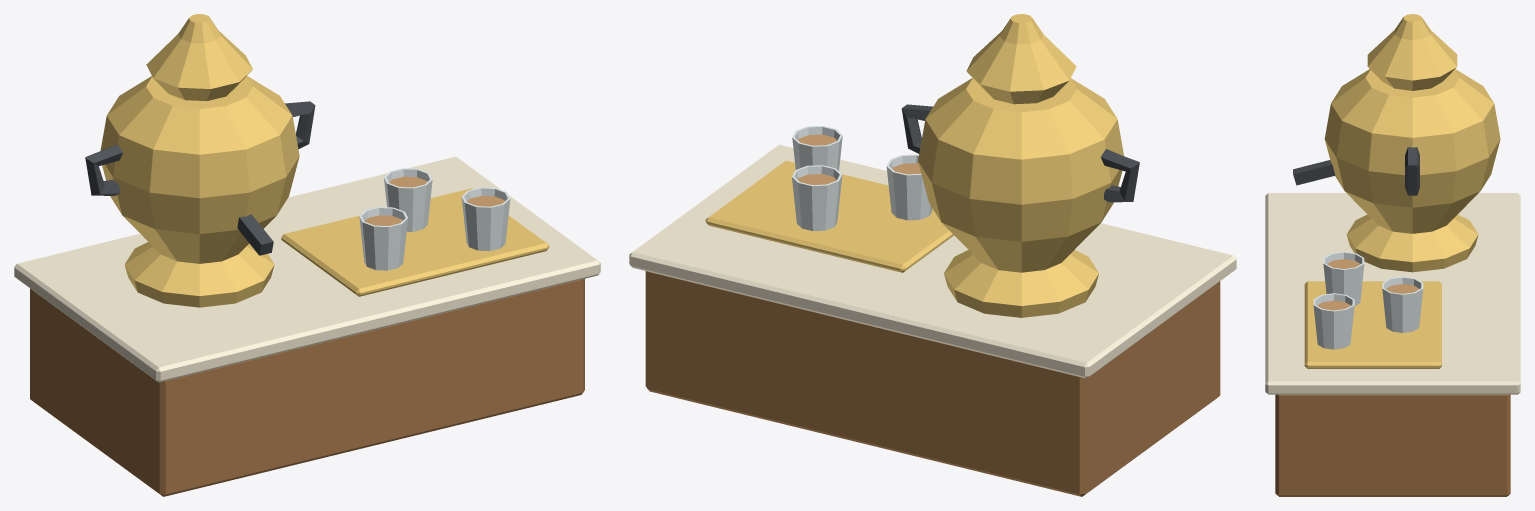
File: karak-station.glb
3 views of the same model, side by side, from view 1: azimuth 30°, elevation 25°; view 2: azimuth 150°, elevation 25°; view 3: azimuth 270°, elevation 25° (orthographic). The views are drawn at different scales.
Parts seen in each view (by area): view 1: karak-station; view 2: karak-station; view 3: karak-station.
Boxes of the visible parts, <box> form: karak-station: <box>14,14,600,496</box>; karak-station: <box>629,14,1236,496</box>; karak-station: <box>1265,14,1520,496</box>.
Size of the model in its own units: 0.46 by 0.391 by 0.26.
